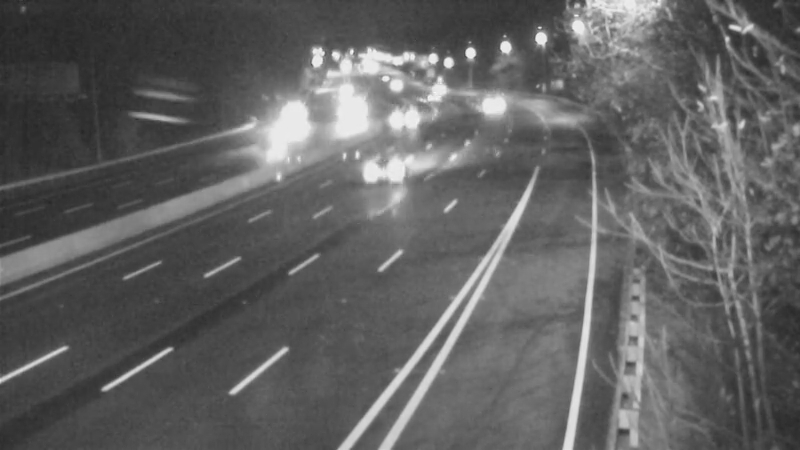vehicle: (354, 124, 434, 204), (231, 112, 311, 192), (369, 59, 419, 109), (412, 60, 462, 110), (412, 73, 462, 123), (460, 79, 510, 129), (378, 93, 428, 143), (325, 91, 375, 141)
